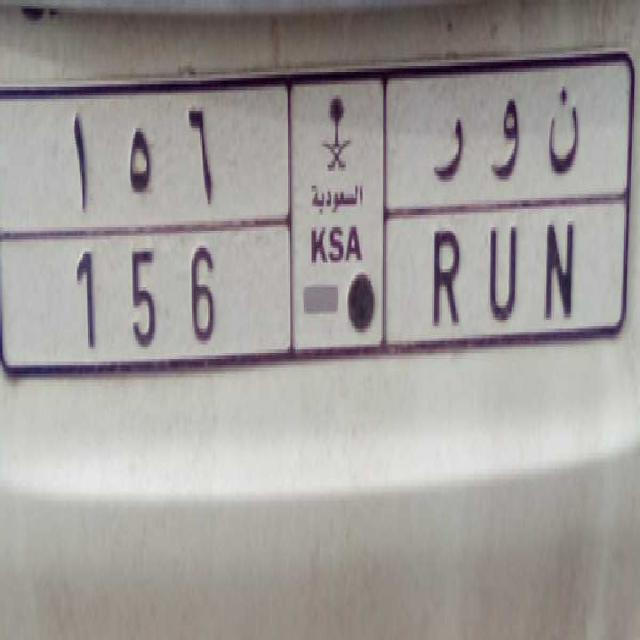license_plate: (20, 218, 598, 389)
